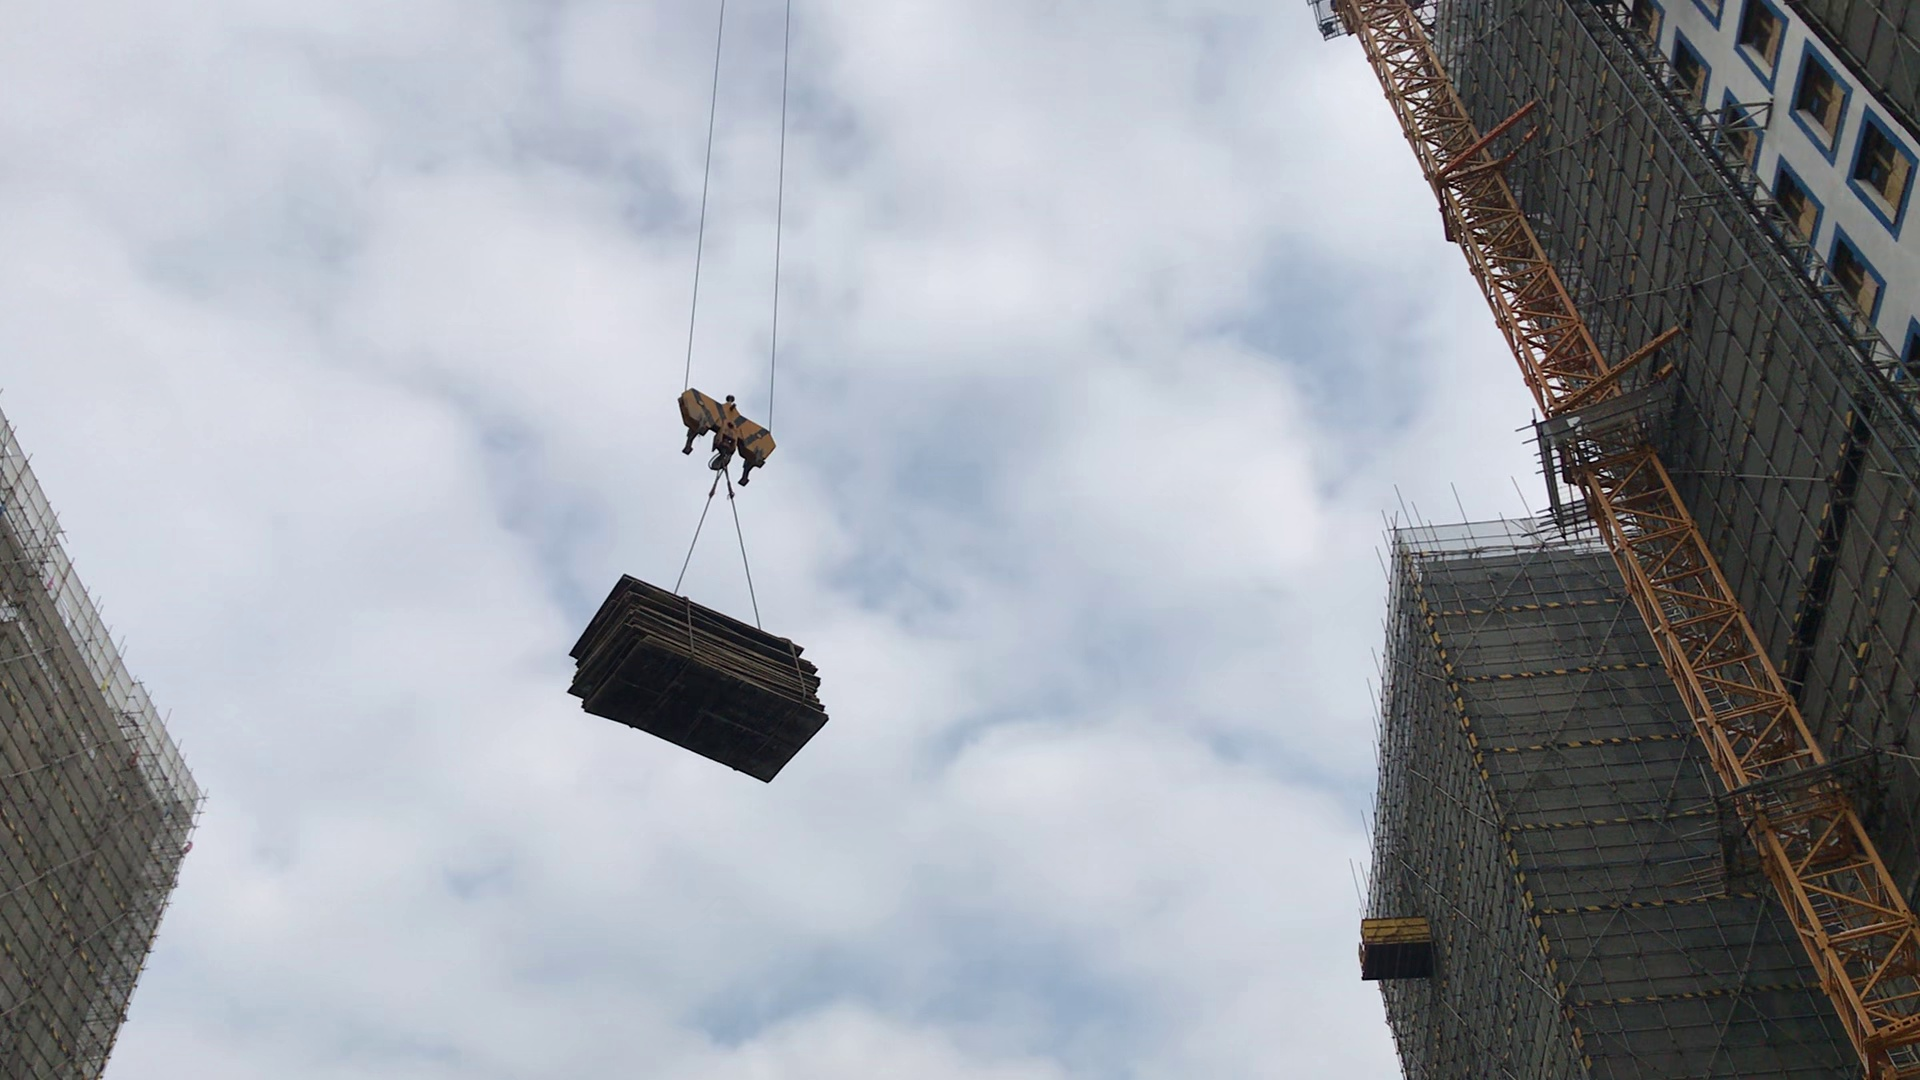board: (560, 564, 833, 785)
hook: (675, 385, 777, 468)
